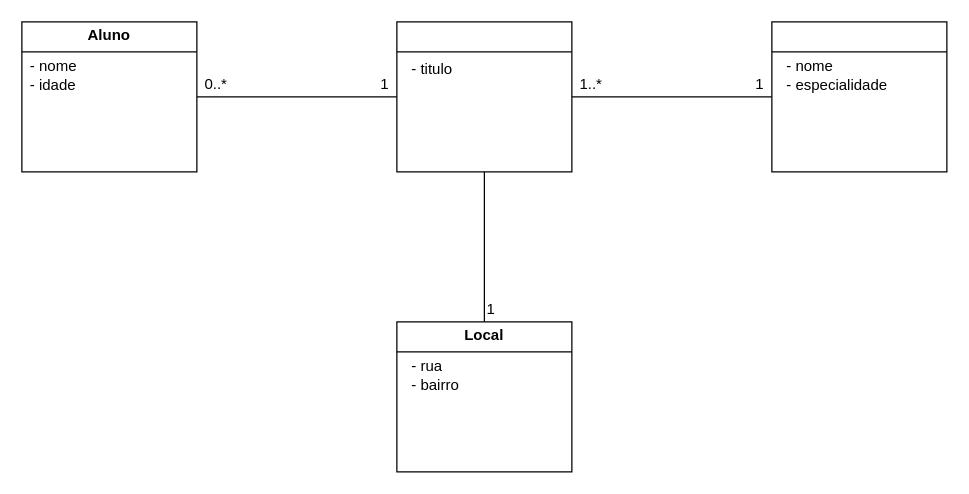
The diagram is 969 pixels wide and 494 high, and some of its shapes have lost their labels. Here are the shapes that lost their labels. From the top down, the box of each, then its label:
(396, 21, 572, 172): Seminario
(771, 21, 947, 172): Professor
